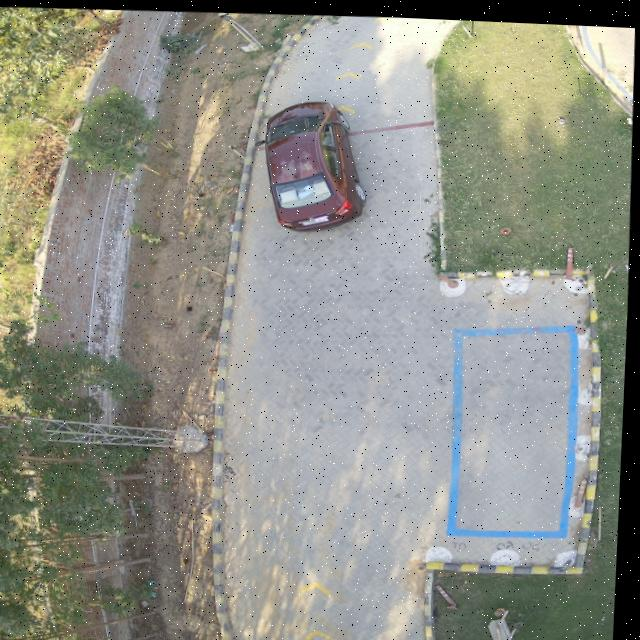car: (264, 96, 366, 228)
